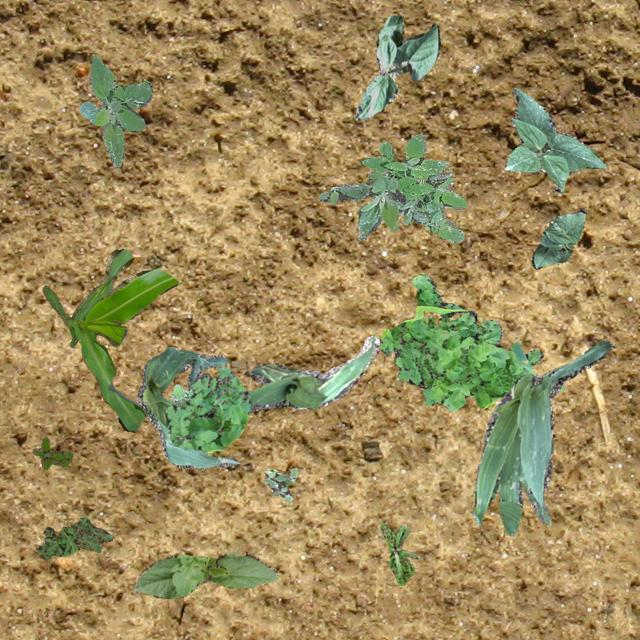crop: (472, 340, 610, 534), (41, 248, 178, 430), (136, 346, 238, 468), (504, 86, 606, 192), (248, 332, 378, 412), (354, 15, 439, 120), (130, 552, 278, 598), (530, 208, 584, 268)
weed: (378, 272, 564, 410), (360, 134, 466, 242), (318, 168, 450, 240), (78, 54, 152, 166), (164, 366, 250, 452), (34, 516, 112, 560), (379, 520, 418, 584), (32, 436, 72, 468), (264, 466, 296, 499), (170, 384, 192, 401)
